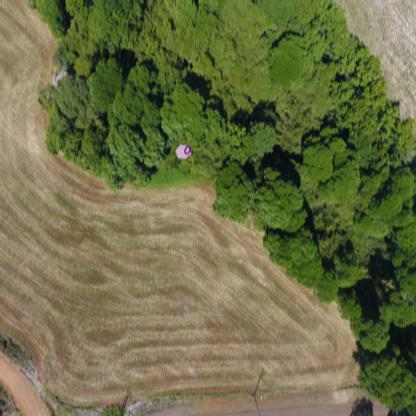0: (184, 144, 192, 157)
hexagon: (174, 142, 192, 160)
